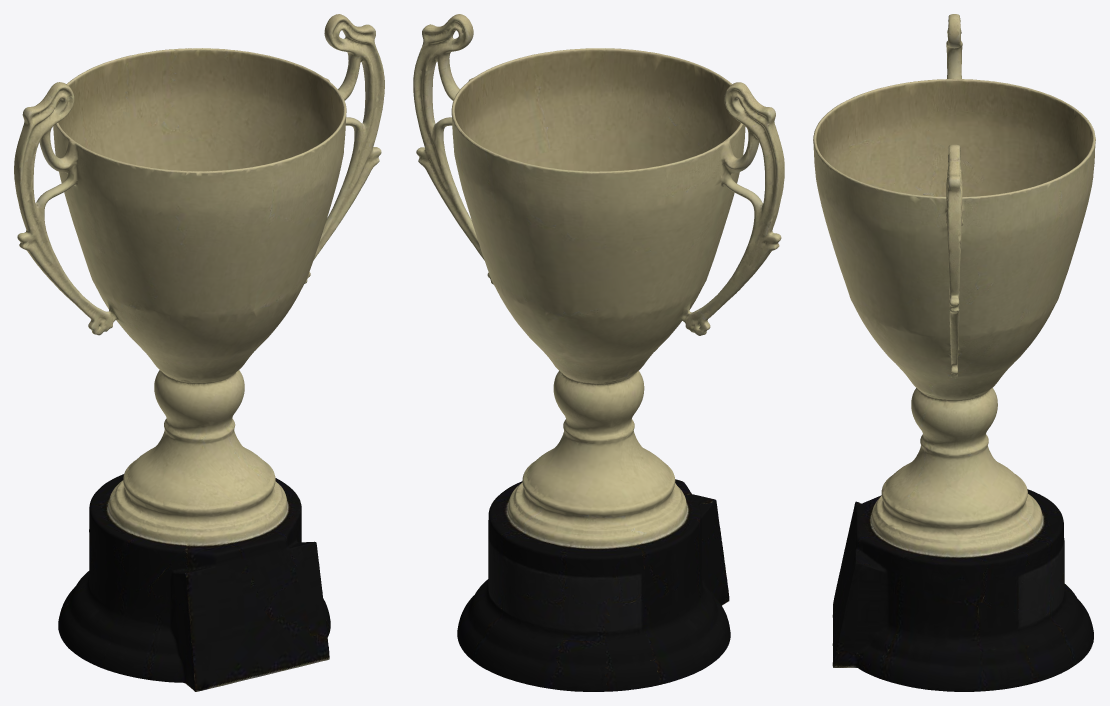
The model's file is trophy.glb.
3 views of the same model, side by side, from view 1: azimuth 30°, elevation 25°; view 2: azimuth 150°, elevation 25°; view 3: azimuth 270°, elevation 25° (orthographic). The views are drawn at different scales.
Parts seen in each view (by area): view 1: Meshy_AI_Workbench_Victory_0908172055_texture; view 2: Meshy_AI_Workbench_Victory_0908172055_texture; view 3: Meshy_AI_Workbench_Victory_0908172055_texture.
Boxes of the visible parts, <box> form: Meshy_AI_Workbench_Victory_0908172055_texture: <box>14,14,384,691</box>; Meshy_AI_Workbench_Victory_0908172055_texture: <box>413,14,784,691</box>; Meshy_AI_Workbench_Victory_0908172055_texture: <box>813,14,1095,691</box>.
Bounding box in the file's own units: 1.25 × 1.9 × 0.8726.
Materials: 1 (1 with a texture image).
